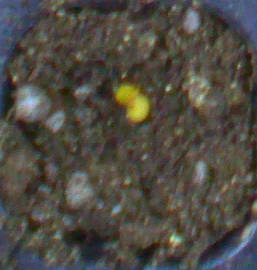pepper seed: (50, 32, 201, 157), (42, 29, 186, 137)
